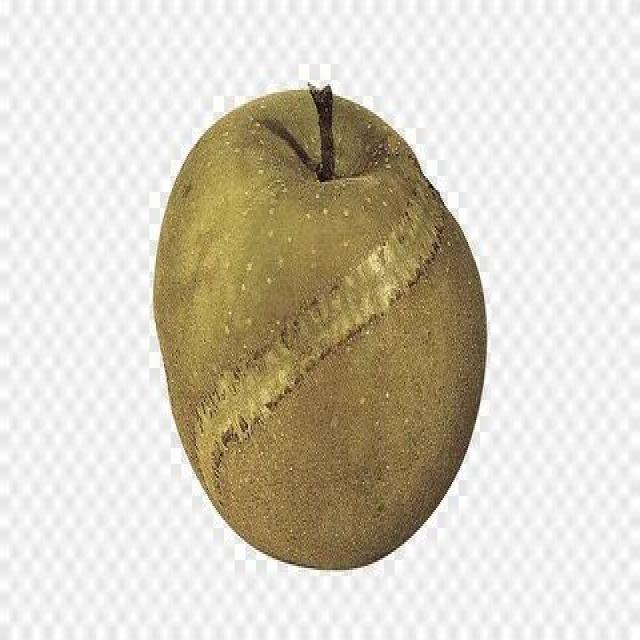Rotten: (165, 110, 470, 573)
